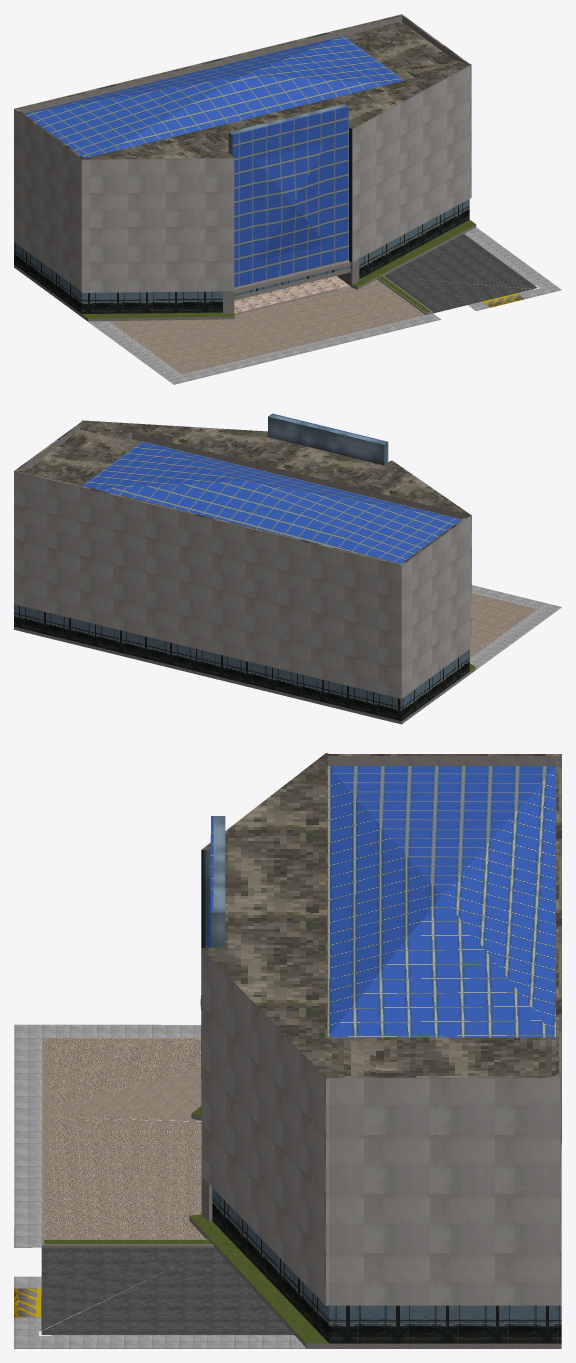
File: lodhotbase_lan.obj
3 views of the same model, one above another, from view 1: azimuth 30°, elevation 25°; view 2: azimuth 150°, elevation 25°; view 3: azimuth 270°, elevation 25° (orthographic). The views are drawn at different scales.
Visible parts, largest first — view 1: LODhotbase_LAn; view 2: LODhotbase_LAn; view 3: LODhotbase_LAn.
Part boxes in pixels (x1,y1,x2,y2): LODhotbase_LAn: [14, 14, 561, 384]; LODhotbase_LAn: [14, 413, 561, 724]; LODhotbase_LAn: [14, 753, 561, 1348].
Size of the model in its own units: 94.09 by 41.34 by 67.03.
Materials: 16 (15 with a texture image).
